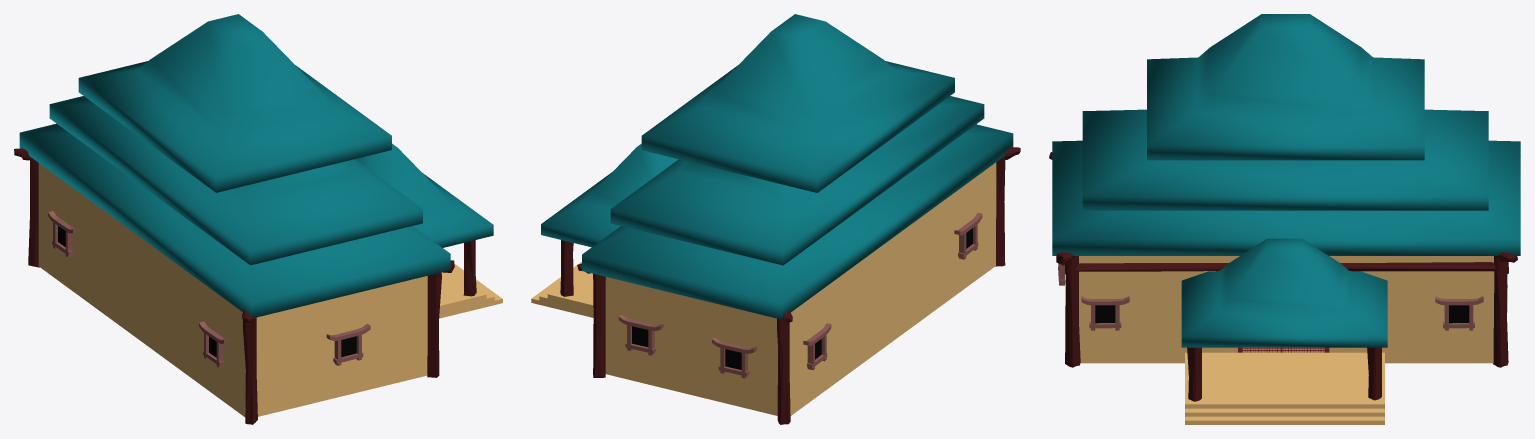
File: casa_ottimizzata.glb
3 views of the same model, side by side, from view 1: azimuth 30°, elevation 25°; view 2: azimuth 150°, elevation 25°; view 3: azimuth 270°, elevation 25° (orthographic).
Visible parts, largest first — view 1: Cube.004; view 2: Cube.004; view 3: Cube.004.
Part boxes in pixels (left/top/right/bottom): Cube.004: left=14, top=14, right=502, bottom=424; Cube.004: left=531, top=14, right=1020, bottom=424; Cube.004: left=1049, top=14, right=1520, bottom=424.
Bounding box in the file's own units: 6.2 × 5.59 × 7.71.
